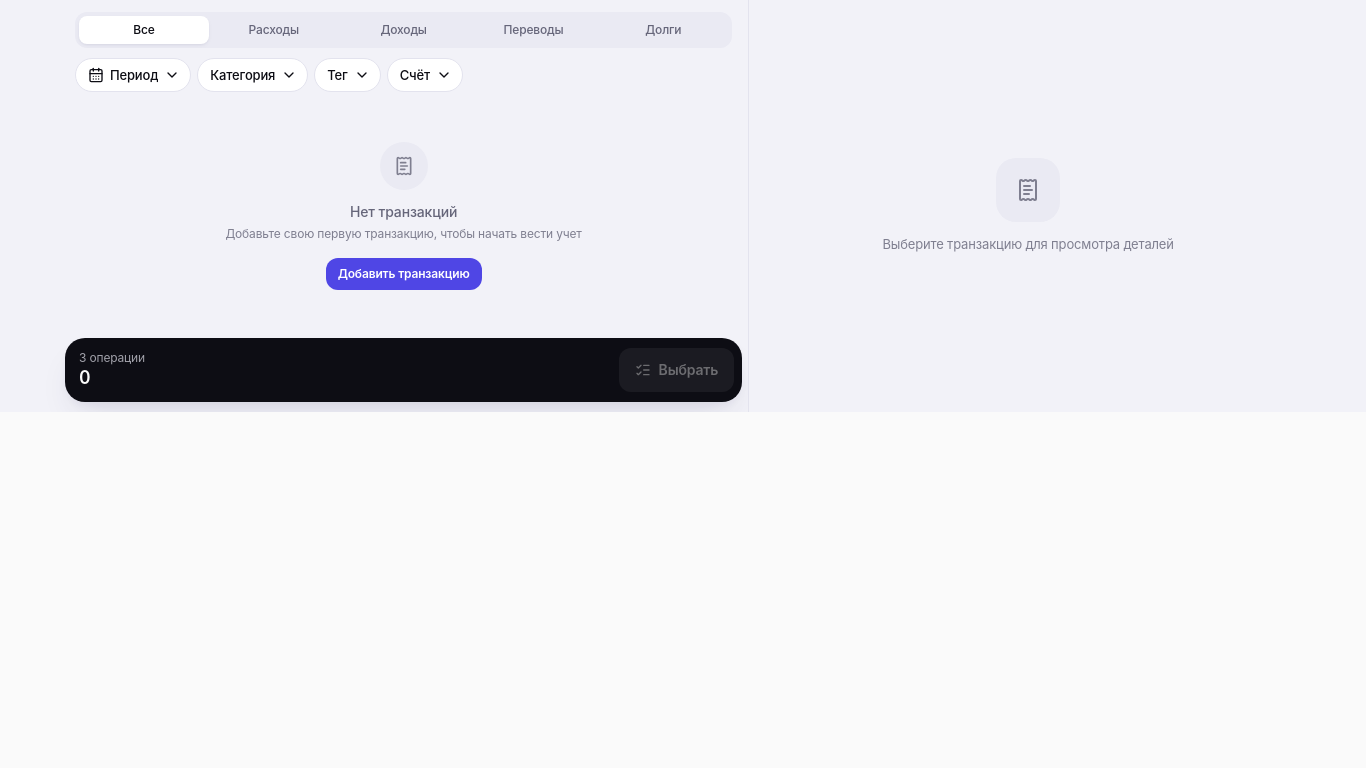
Test: HistoryPage › facet chips › show button › with 3 results reads «Показать 3 операции»
Step 1. Click the button with test id "facet-chip-category" → (253,75), box [198, 59, 307, 91]
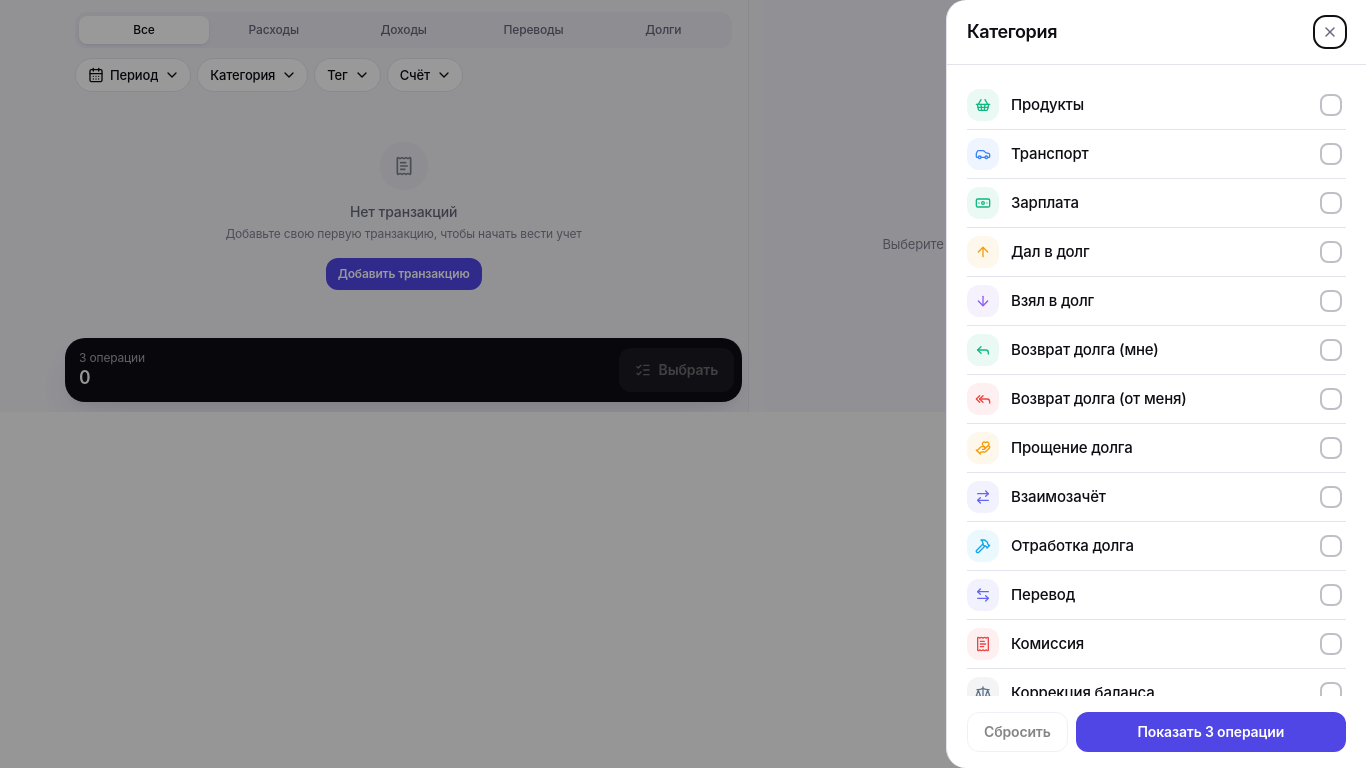
Result: the button with test id "facet-show" reads "Показать 3 операции" at [1076, 712, 1346, 752]
